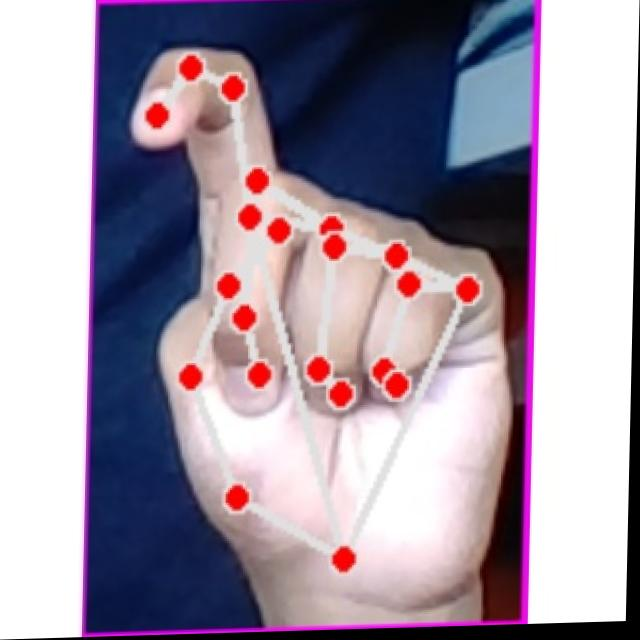Z: (105, 34, 521, 602)
